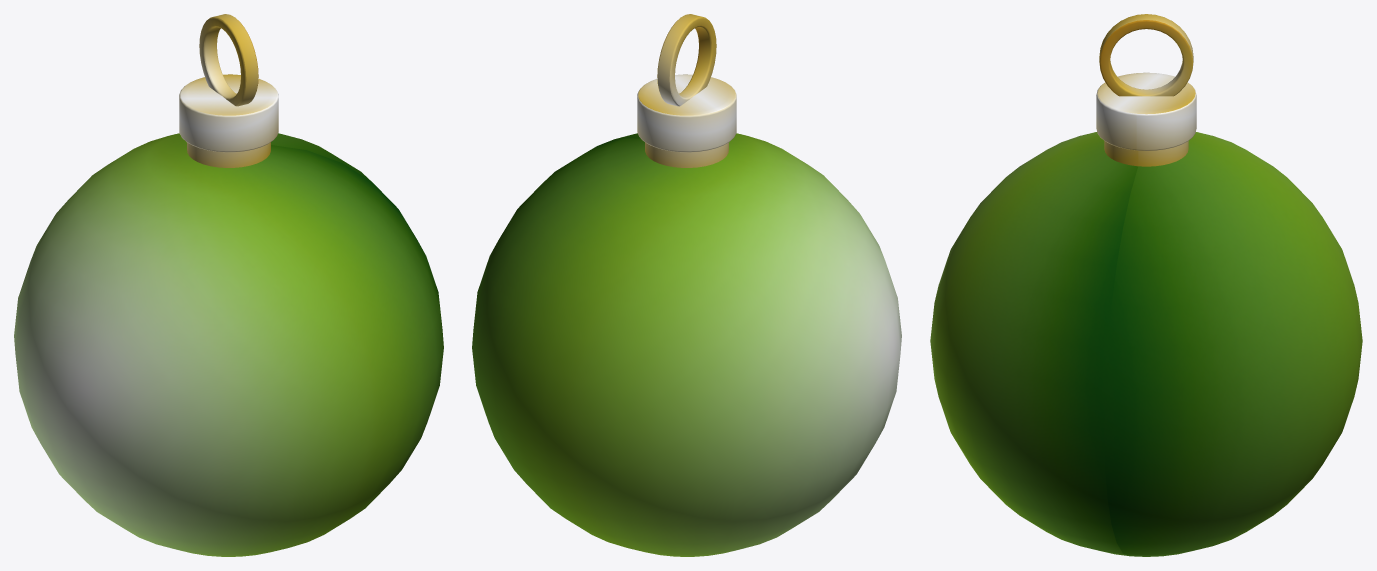
Rendered from GREEN_Ball.fbx.
3 renders of one model, left to right at view 1: azimuth 30°, elevation 25°; view 2: azimuth 150°, elevation 25°; view 3: azimuth 270°, elevation 25°, orthographic.
Parts seen in each view (by area): view 1: Sphere.004; view 2: Sphere.004; view 3: Sphere.004.
Part boxes in pixels (<box>): Sphere.004: <box>14,14,443,556</box>; Sphere.004: <box>472,14,901,556</box>; Sphere.004: <box>930,14,1362,556</box>.
Bounding box in the file's own units: 88.16 × 117 × 88.16.
